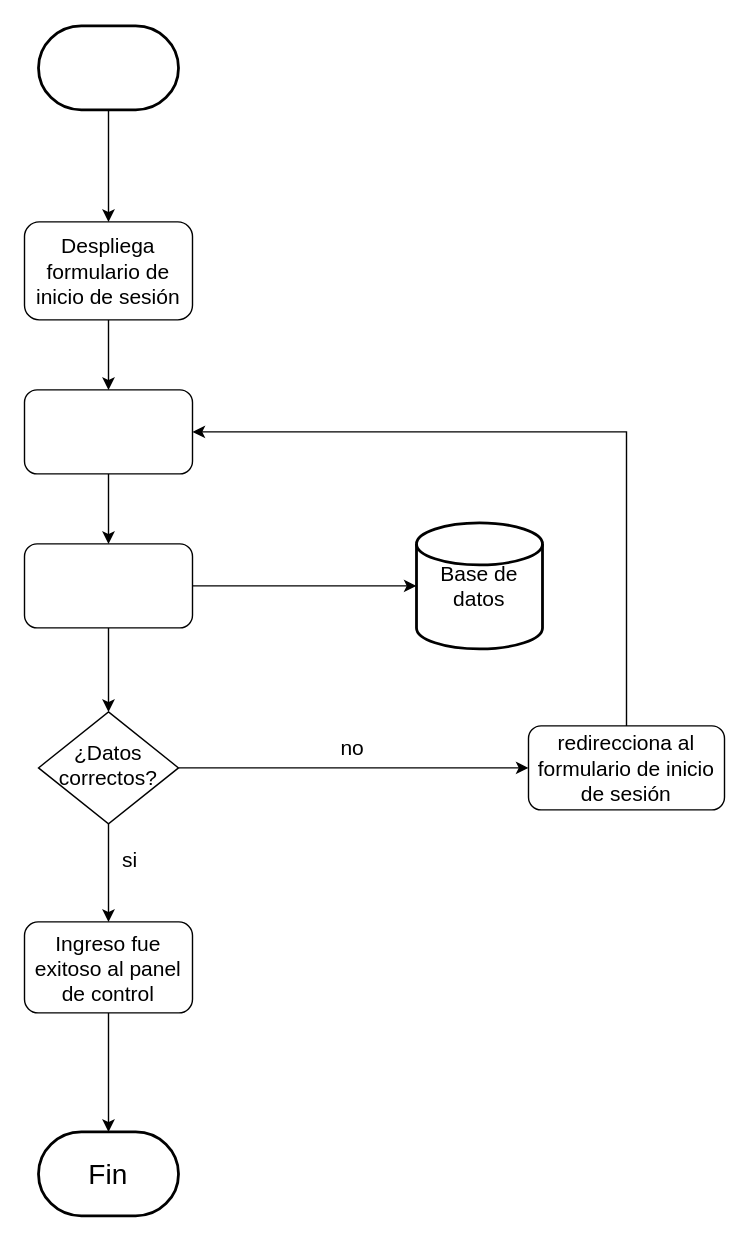
Some shapes in this 749 by 1240 pixel diagram are drawn without their labels. Here are the shapes that lost their labels. From the top down, the box of each, then its label:
(36, 24, 179, 111): Inicio
(23, 388, 192, 474): Queda a la espera del ingreso de datos
(23, 542, 192, 628): Validación de datos
